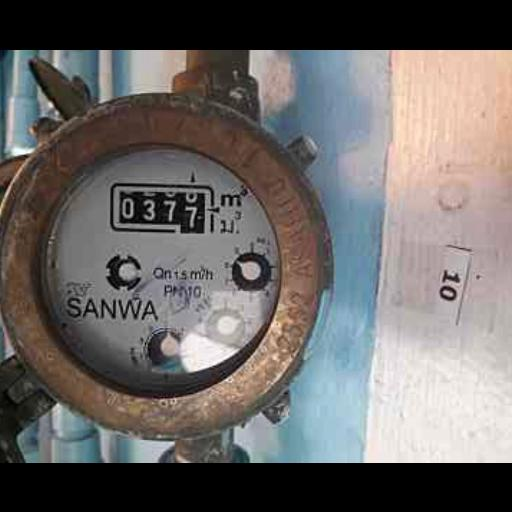0: (120, 190, 139, 223)
3: (138, 191, 160, 224)
7: (181, 190, 206, 232), (158, 190, 182, 224)
border_water_meter_number: (109, 182, 215, 233)
